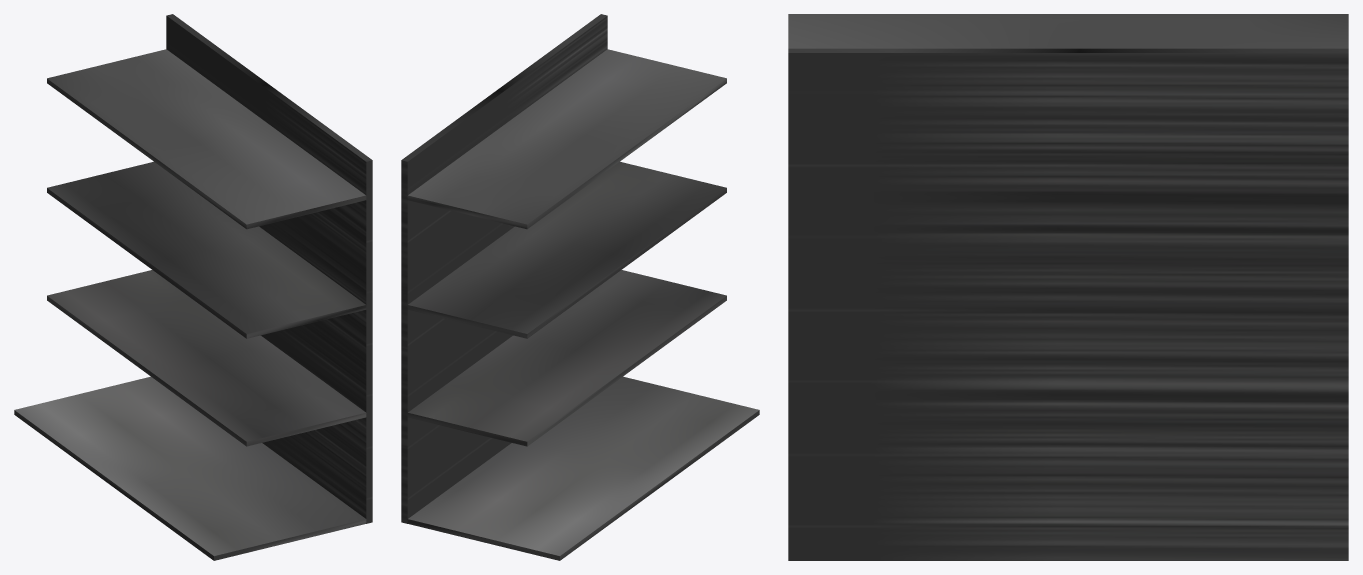
File: furniture_2.fbx
3 views of the same model, side by side, from view 1: azimuth 30°, elevation 25°; view 2: azimuth 150°, elevation 25°; view 3: azimuth 270°, elevation 25° (orthographic). The views are drawn at different scales.
Visible parts, largest first — view 1: Cube.002; view 2: Cube.002; view 3: Cube.002.
Boxes of the visible parts, bbox=[...] form: Cube.002: bbox=[14, 14, 372, 560]; Cube.002: bbox=[401, 14, 759, 560]; Cube.002: bbox=[788, 14, 1348, 560].
Bounding box in the file's own units: 91.7 × 200 × 200.
